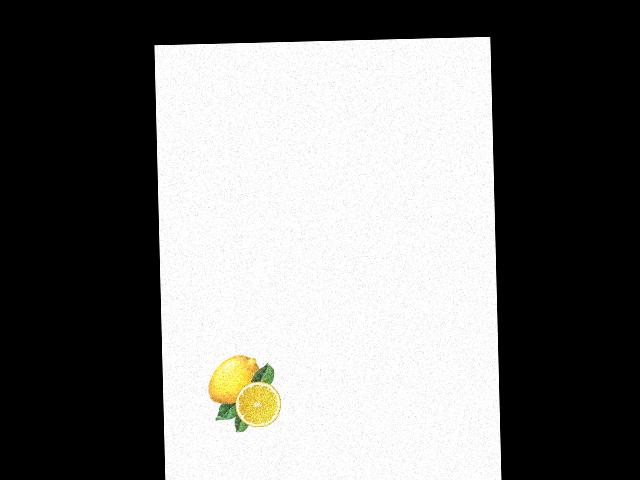lemon: (207, 355, 261, 406)
